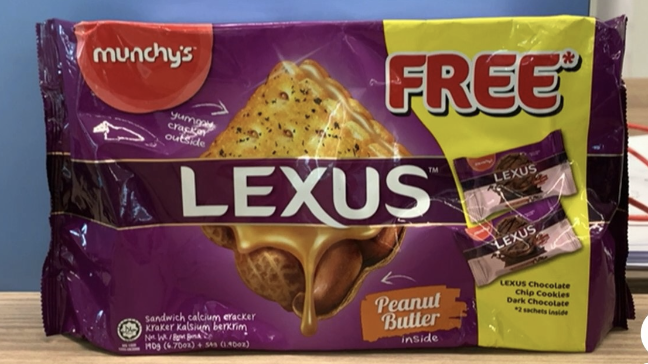crackers_200g-299g: (68, 33, 598, 350)
